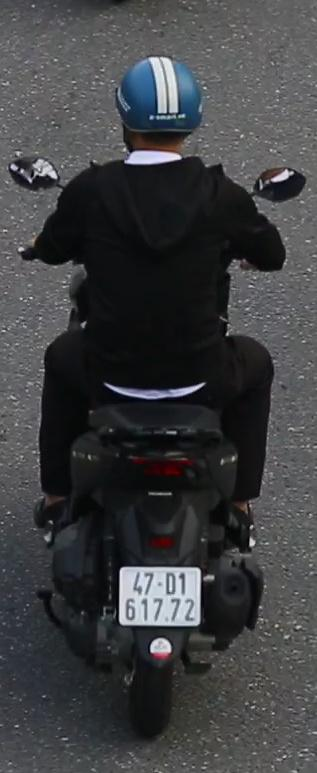LP: (116, 559, 205, 632)
helmet: (116, 48, 206, 172)
